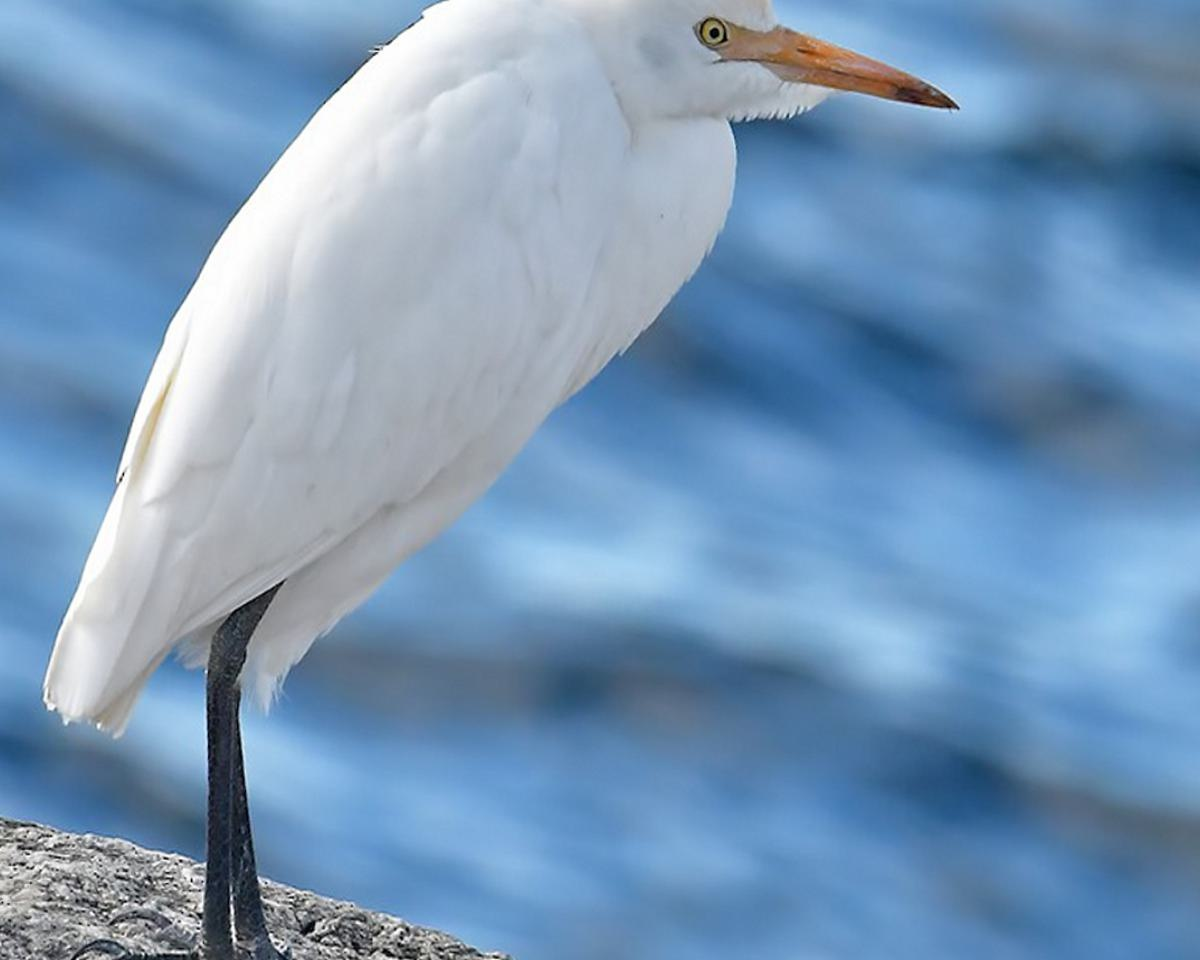egret: (41, 2, 956, 958)
